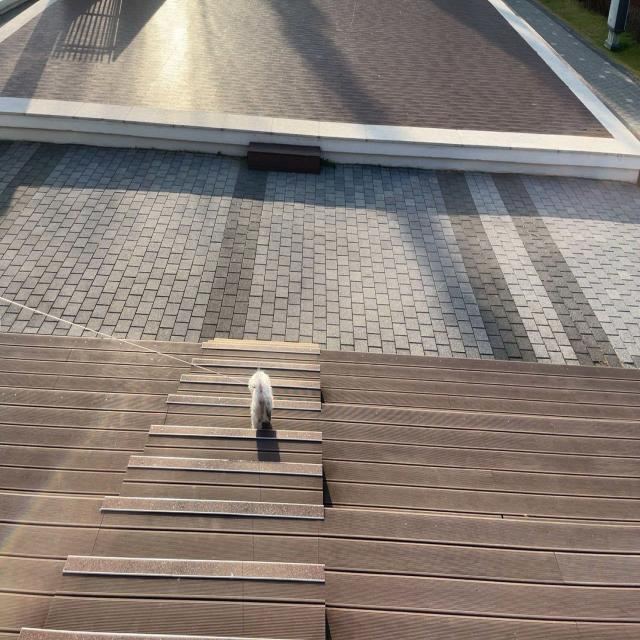Dog: (248, 370, 273, 433)
